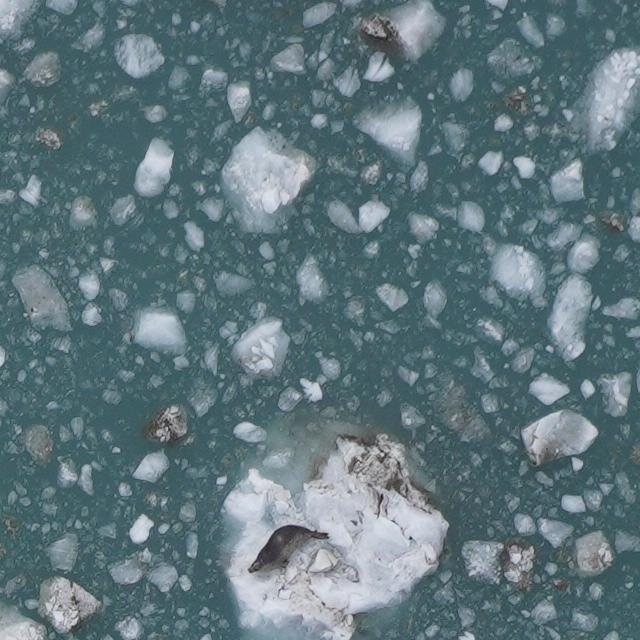seal: (243, 520, 335, 577)
